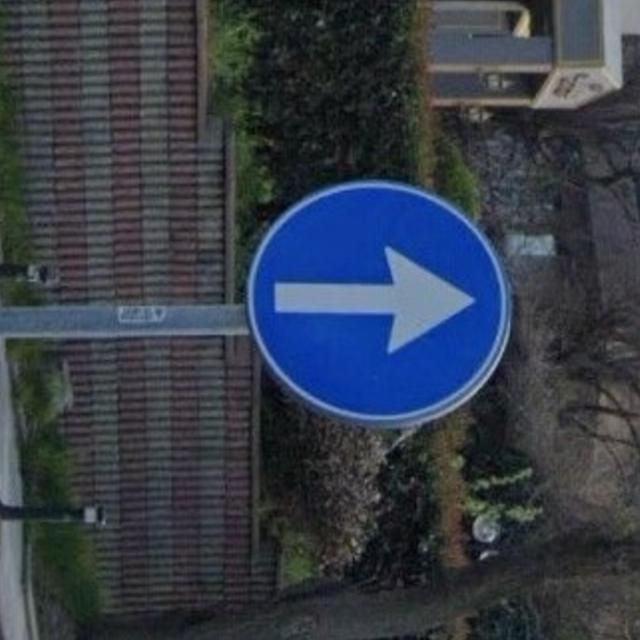Turn Right: (244, 180, 520, 434)
